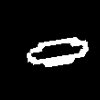chain: (27, 37, 87, 66)
